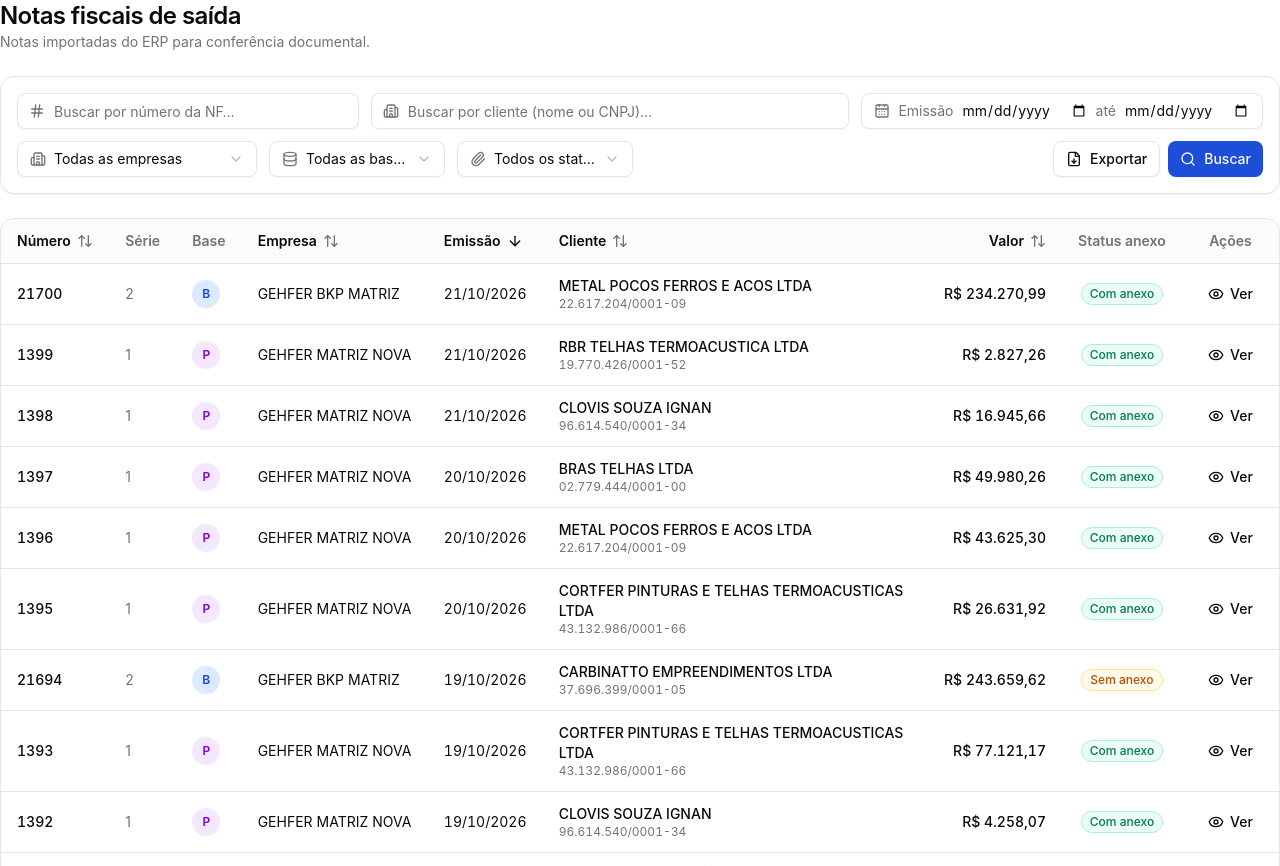
Test: NotasFiscaisPage › valida o período de emissão
The image size is (1280, 866).
Type "2026-10-20" into the date field named "Emissão de" at point(1024, 111), box [962,101,1088,121]
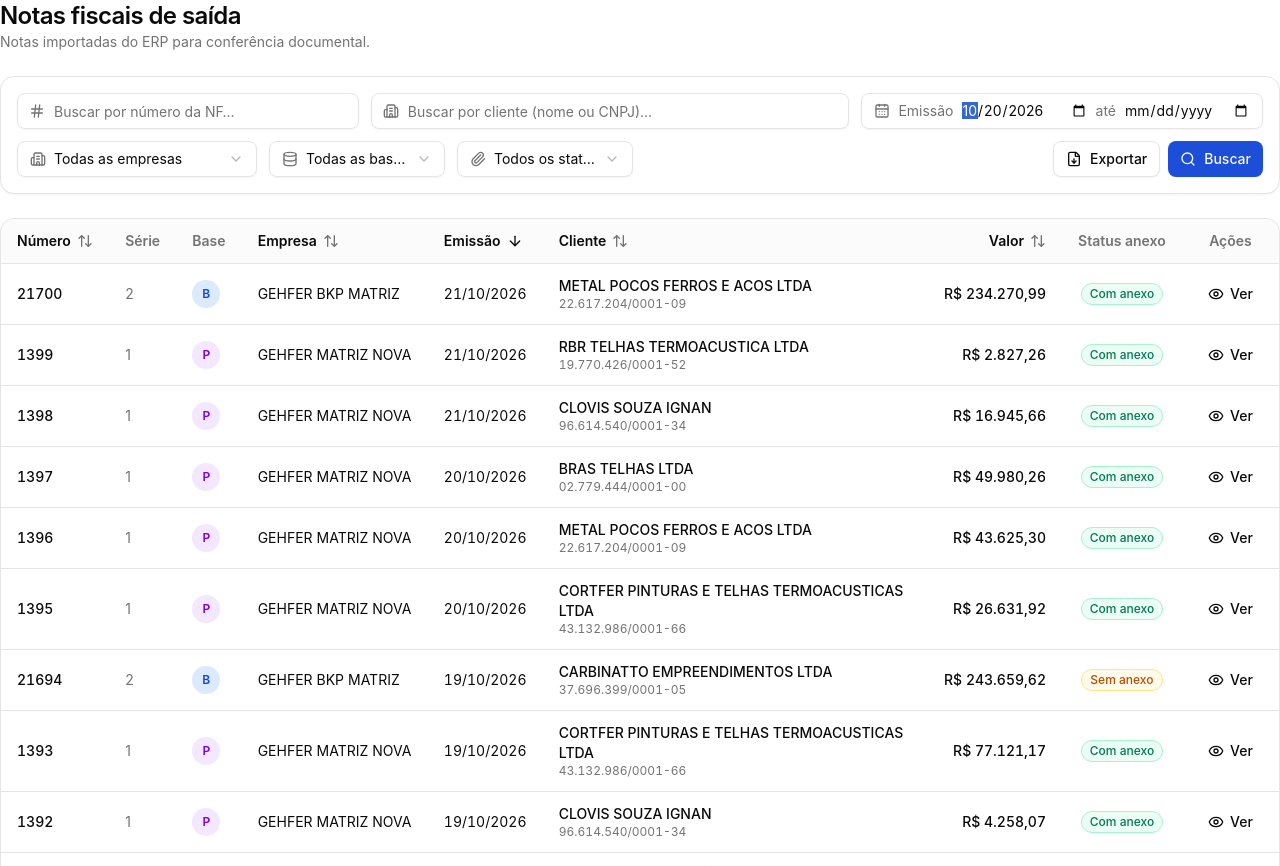
Type "2026-10-01" into the date field named "Emissão até" at point(1187, 111), box [1124,101,1250,121]
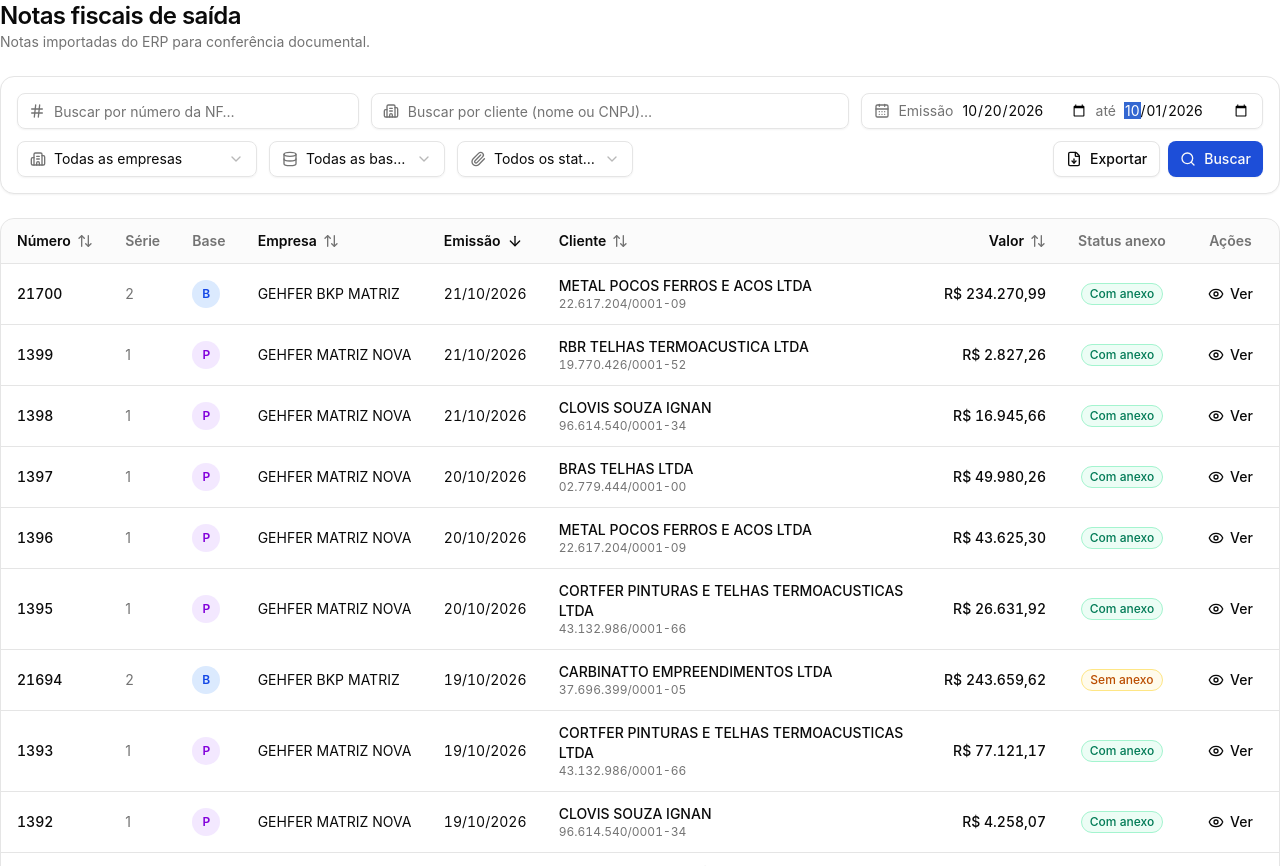
Click the button "Buscar" at point(1216, 159), box [1168,141,1263,177]
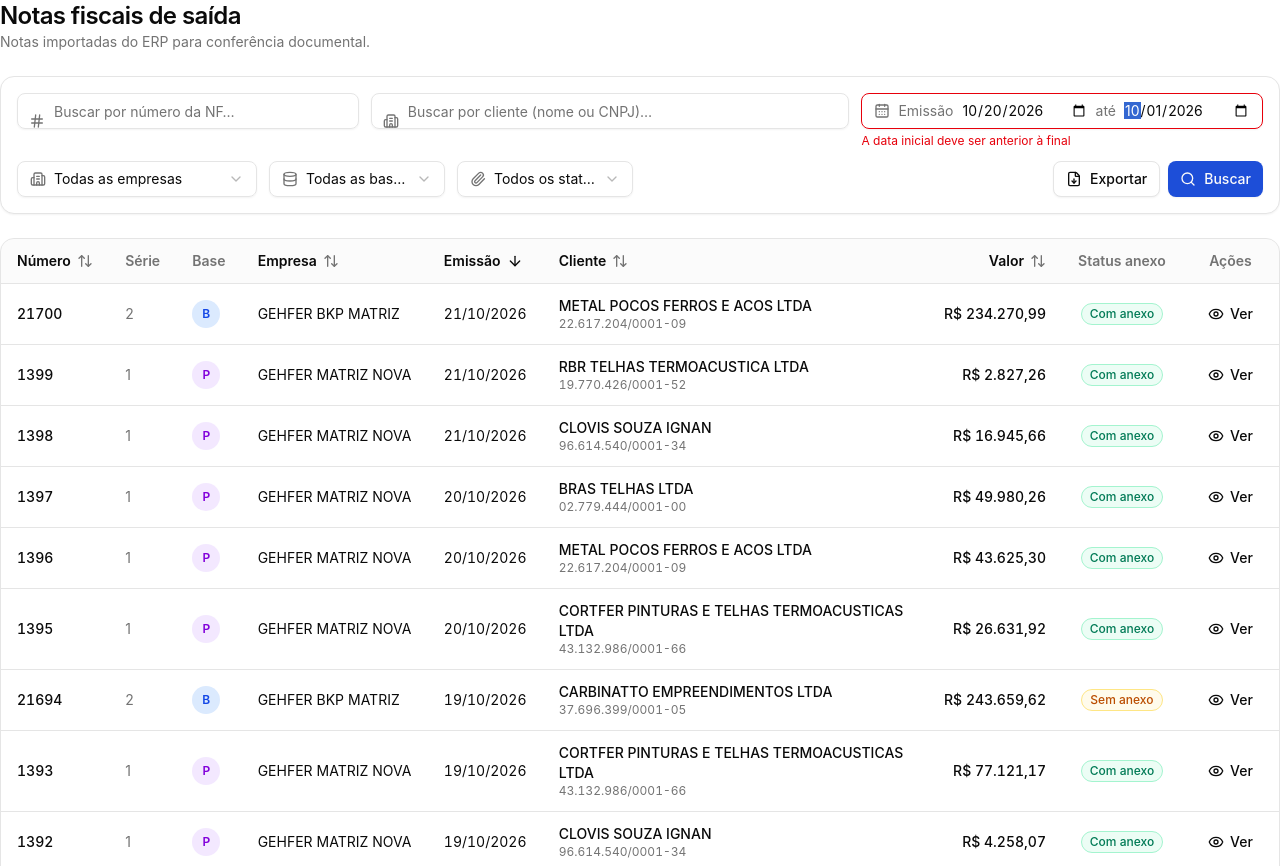
Check: the text "A data inicial deve ser anterior à final" is shown, box [861,133,1071,148]
